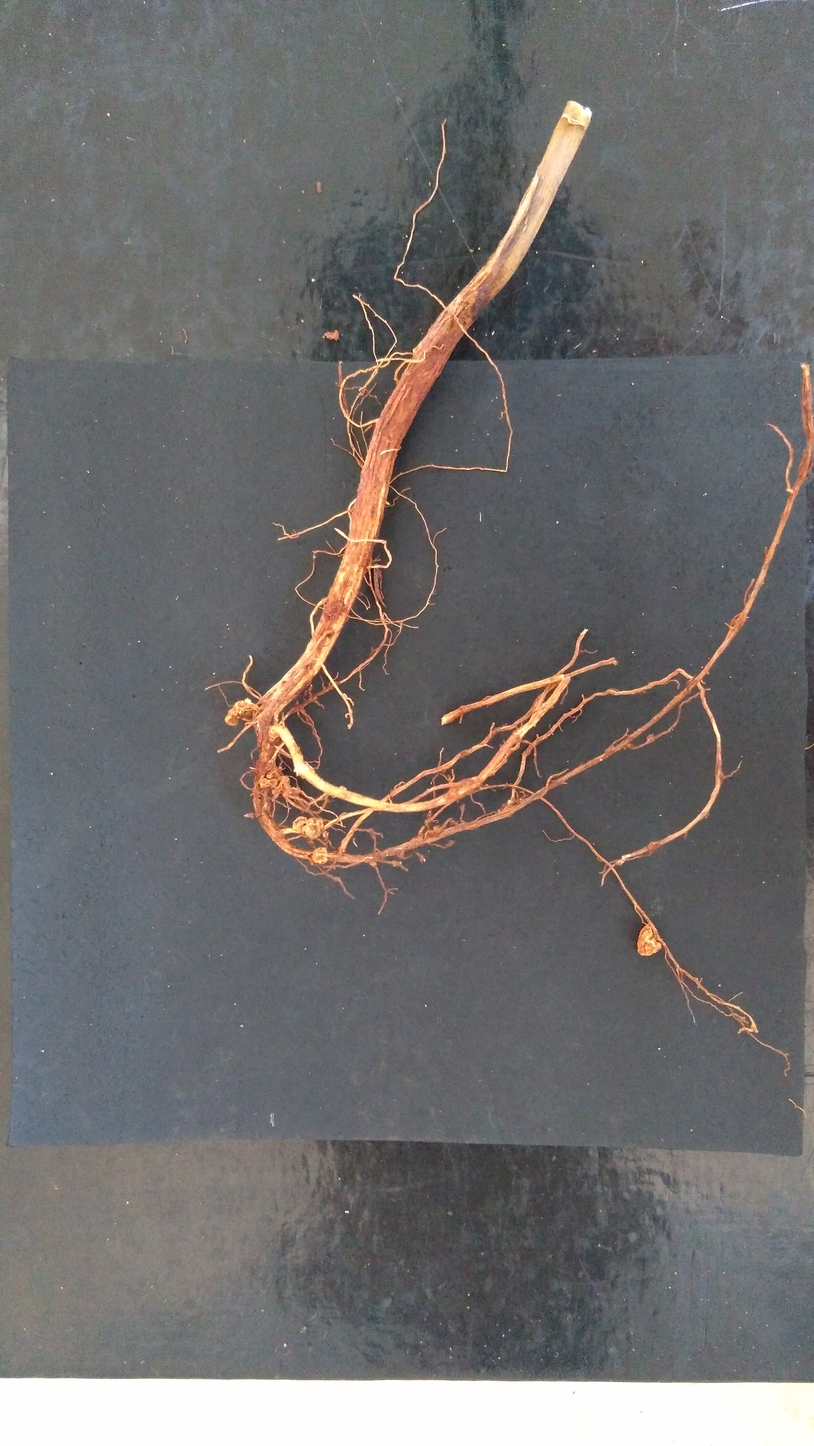nodule: (637, 923, 662, 956), (292, 816, 325, 839), (235, 701, 253, 718), (225, 706, 239, 726), (312, 847, 328, 864), (261, 787, 271, 810), (283, 787, 299, 799), (259, 778, 278, 787), (278, 781, 291, 794), (277, 775, 290, 784), (338, 786, 347, 799), (268, 729, 279, 738), (266, 770, 276, 779), (395, 849, 404, 858), (266, 759, 276, 767), (322, 831, 329, 841), (272, 788, 281, 795), (369, 861, 378, 868), (647, 734, 654, 742), (244, 812, 253, 818), (419, 854, 424, 863), (268, 811, 274, 818), (507, 799, 513, 805), (433, 825, 440, 830), (278, 766, 282, 770)
